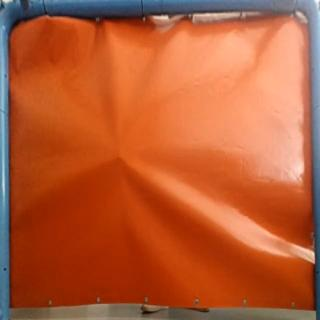Hit-hRxx: (112, 152, 128, 162)
